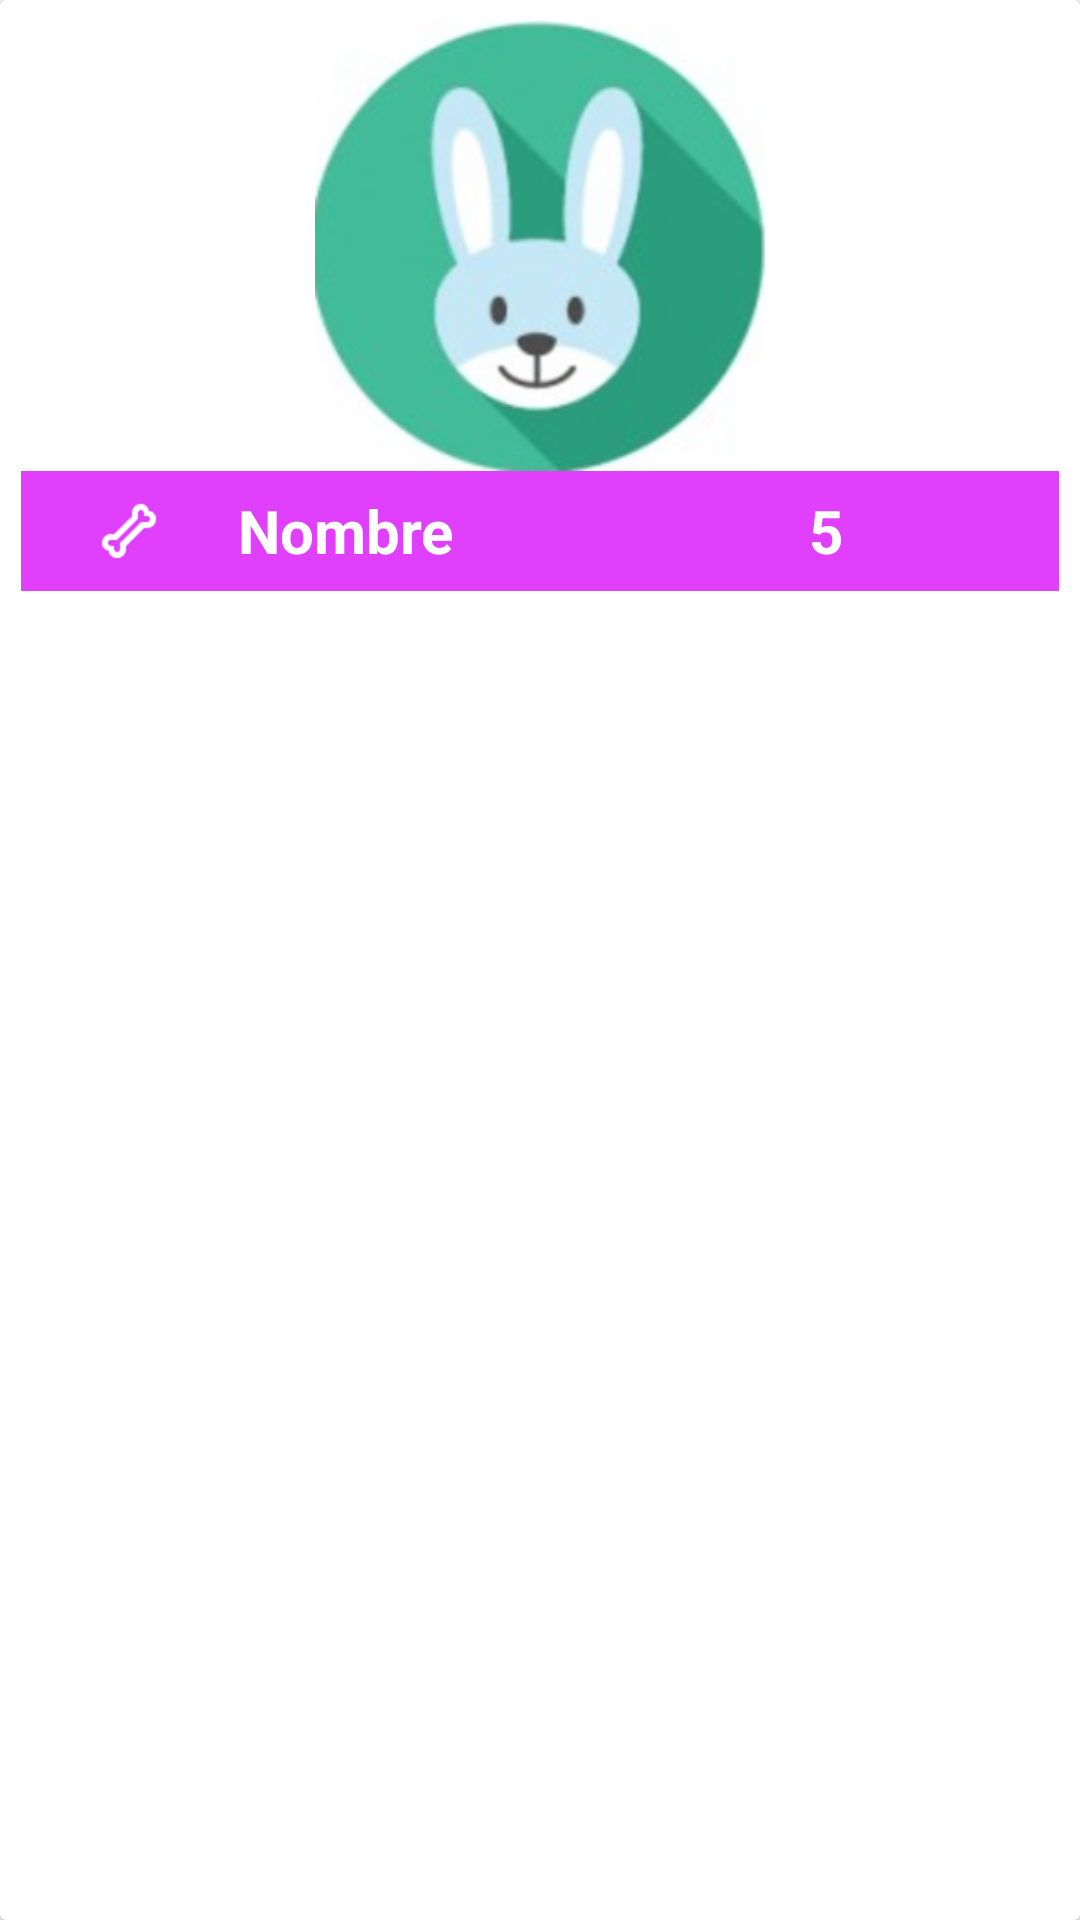

Named icons in this screenshot (1080px x 1920px) and their bounding boxes, detection(x1, y1, x2, y2):
dog bone: detection(101, 503, 157, 559)
